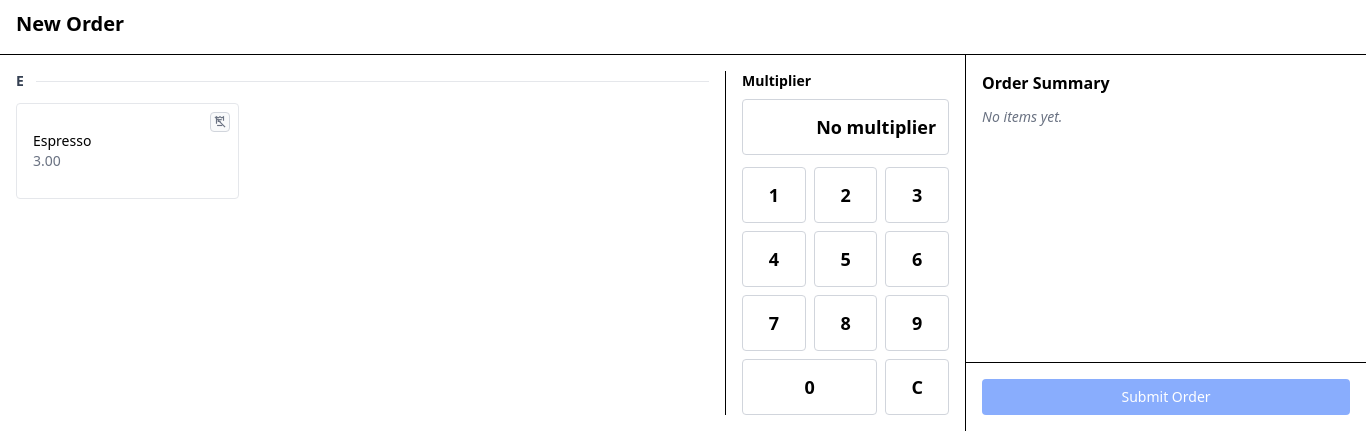
Test: Order › shows detail receipt disabled status on selector and summary
Expected: the picture named "Detail receipt disabled" is shown, [210, 112, 230, 132]
Click the button "Espresso 3.00" at (128, 151), box [16, 103, 239, 199]
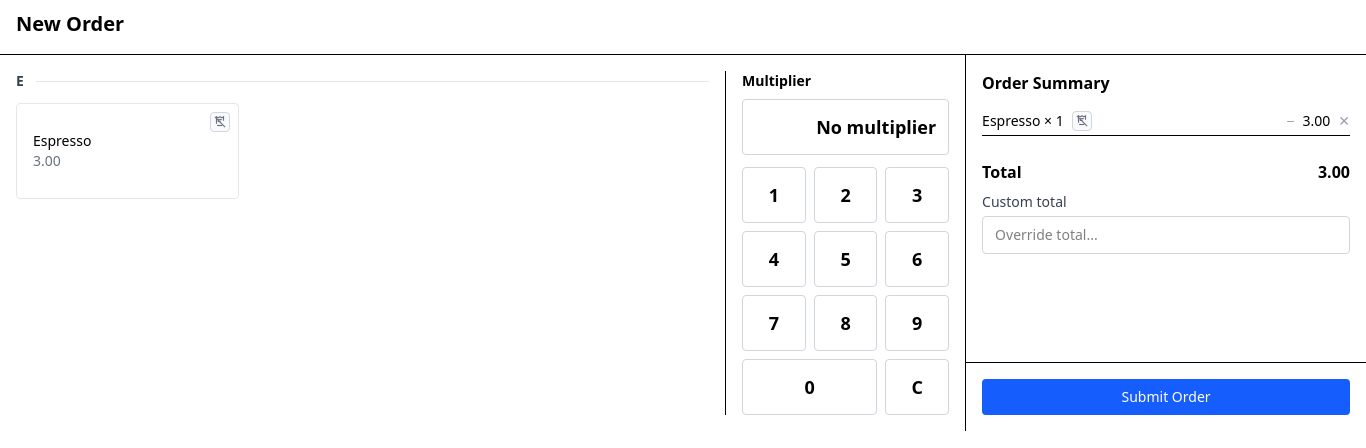
Expected: the number of pictures named "Detail receipt disabled" is 2, [210, 112, 230, 132]; [1072, 111, 1092, 131]
